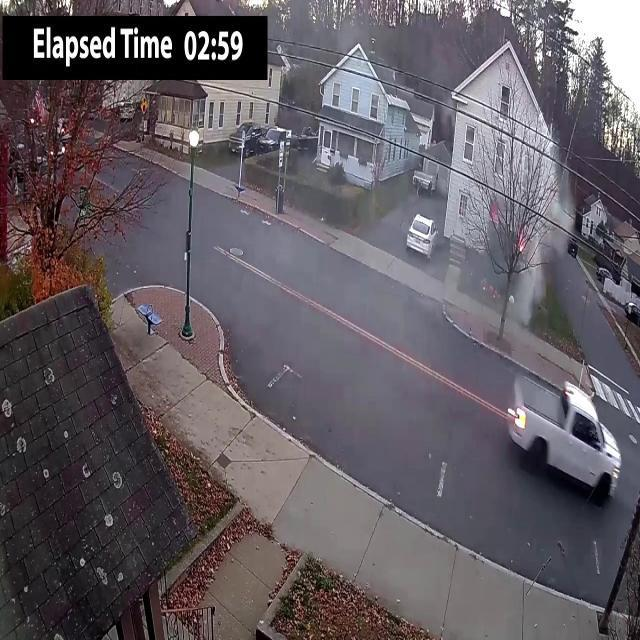Smoke: (464, 142, 574, 341), (290, 6, 472, 106)
